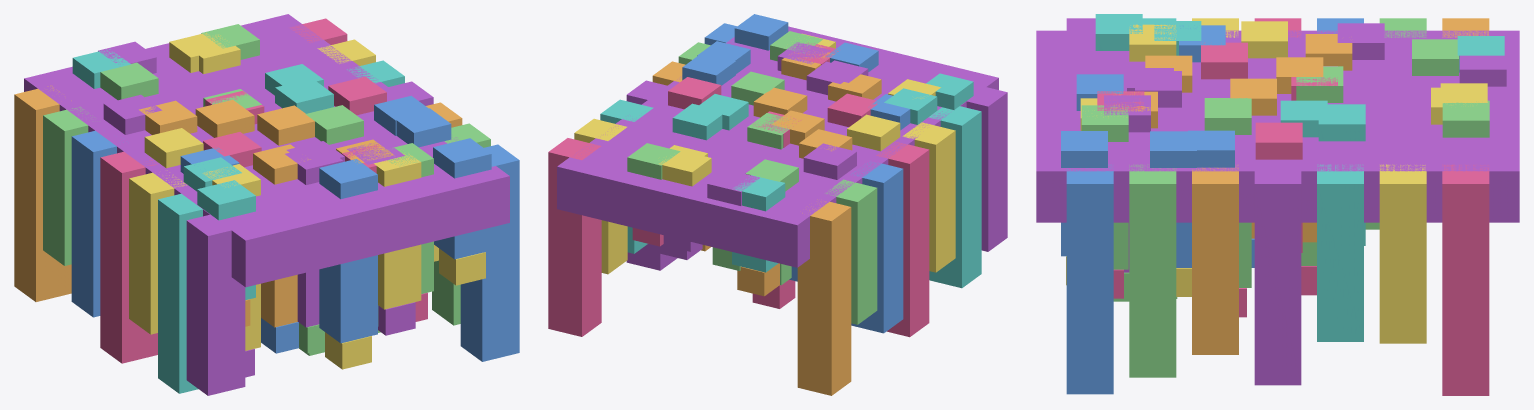
The model's file is peruca_dreads_coloridos.glb.
3 views of the same model, side by side, from view 1: azimuth 30°, elevation 25°; view 2: azimuth 150°, elevation 25°; view 3: azimuth 270°, elevation 25° (orthographic). The views are drawn at different scales.
Parts seen in each view (by area): view 1: peruca_dreads_coloridos; view 2: peruca_dreads_coloridos; view 3: peruca_dreads_coloridos.
Part boxes in pixels (left/top/right/bottom): peruca_dreads_coloridos: left=14, top=14, right=519, bottom=395; peruca_dreads_coloridos: left=548, top=14, right=1007, bottom=395; peruca_dreads_coloridos: left=1036, top=14, right=1519, bottom=395.
Bounding box in the file's own units: 0.627 × 0.4036 × 0.772.
